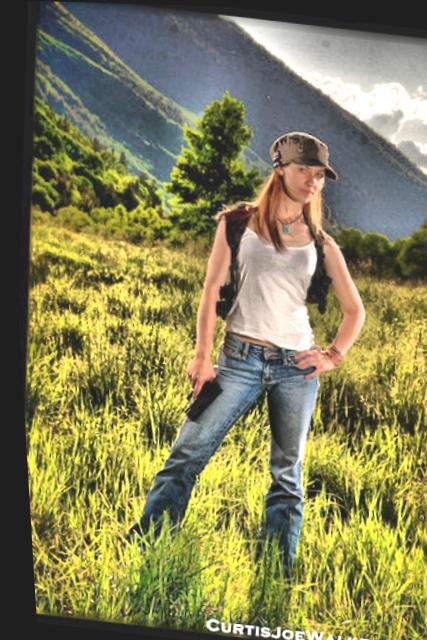pistol: (171, 365, 221, 418)
